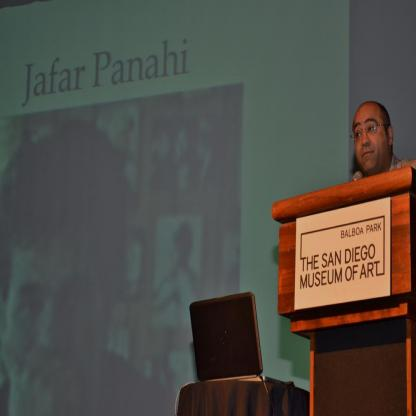board: (188, 293, 295, 387)
